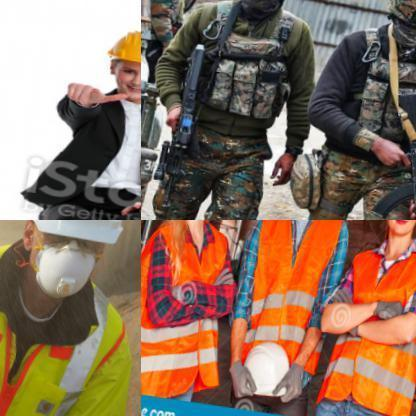vest: (0, 228, 140, 415), (141, 220, 256, 398), (236, 220, 356, 380), (184, 0, 311, 145), (325, 232, 415, 415), (338, 15, 415, 183)
